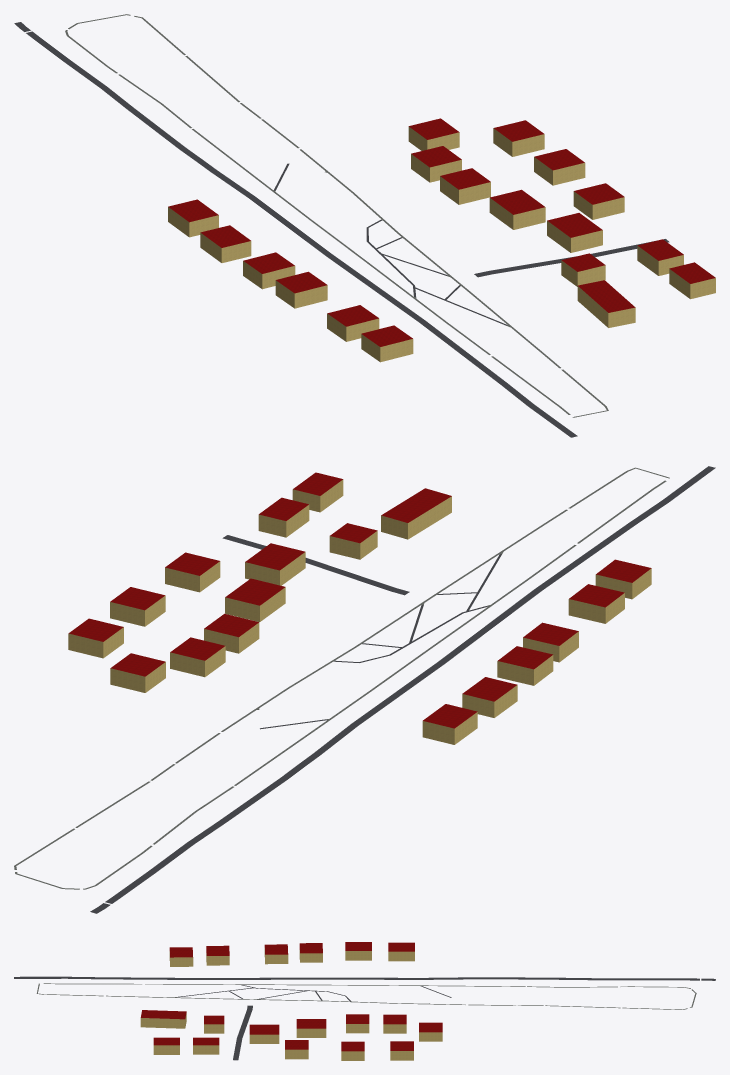
Rendered from district_-1_0.glb.
The picture shows the model from 3 angles, top to bottom: view 1: azimuth 30°, elevation 25°; view 2: azimuth 150°, elevation 25°; view 3: azimuth 270°, elevation 25°; orthographic projection. The views are drawn at different scales.
Visible parts, largest first — view 1: Road w1164488614, Road w1164490930, Building w624466142, Building w44036367, Building w626198196, Building w44036314, Building w44036388, Building w44036355, Building w625229396, Building w625229395, Building w625229394, Building w625229393 (+8 smaller); view 2: Road w1164488614, Road w1164490930, Building w624466142, Building w44036367, Building w626198196, Building w44036332, Building w44036371, Building w44036409, Building w625229394, Building w625229395, Building w44036426, Building w625229396 (+9 smaller); view 3: Road w1164488614, Road w1164490930, Building w624466142, Building w626198196, Building w44036367, Building w44036409, Building w44036388, Building w44036355, Building w626198763, Building w44036332, Building w44036327, Building w44036314 (+9 smaller).
Boxes of the visible parts, left/top/right/bottom form: Road w1164488614: left=14, top=22, right=577, bottom=437; Road w1164490930: left=65, top=14, right=608, bottom=417; Building w624466142: left=577, top=280, right=635, bottom=327; Building w44036367: left=489, top=189, right=545, bottom=229; Building w626198196: left=547, top=213, right=602, bottom=252; Building w44036314: left=361, top=325, right=413, bottom=362; Building w44036388: left=200, top=225, right=251, bottom=262; Building w44036355: left=275, top=271, right=327, bottom=308; Building w625229396: left=573, top=183, right=624, bottom=219; Building w625229395: left=534, top=149, right=585, bottom=185; Building w625229394: left=493, top=120, right=544, bottom=156; Building w625229393: left=440, top=168, right=490, bottom=204; Road w1164488614: left=90, top=466, right=715, bottom=913; Road w1164490930: left=14, top=467, right=669, bottom=889; Building w624466142: left=381, top=488, right=451, bottom=539; Building w44036367: left=225, top=578, right=285, bottom=622; Building w626198196: left=245, top=543, right=305, bottom=585; Building w44036332: left=568, top=584, right=624, bottom=623; Building w44036371: left=497, top=646, right=553, bottom=685; Building w44036409: left=422, top=704, right=477, bottom=744; Building w625229394: left=68, top=618, right=123, bottom=658; Building w625229395: left=110, top=587, right=165, bottom=626; Building w44036426: left=110, top=653, right=165, bottom=692; Building w625229396: left=165, top=552, right=220, bottom=592; Road w1164488614: left=14, top=976, right=715, bottom=980; Road w1164490930: left=36, top=983, right=696, bottom=1009; Building w624466142: left=140, top=1010, right=186, bottom=1028; Building w626198196: left=249, top=1024, right=279, bottom=1043; Building w44036367: left=296, top=1019, right=326, bottom=1037; Building w44036409: left=388, top=942, right=414, bottom=961; Building w44036388: left=345, top=942, right=371, bottom=960; Building w44036355: left=264, top=944, right=288, bottom=964; Building w626198763: left=153, top=1037, right=179, bottom=1054; Building w44036332: left=206, top=945, right=229, bottom=965; Building w44036327: left=193, top=1037, right=219, bottom=1054; Building w44036314: left=169, top=947, right=193, bottom=966.
Bounding box in the file's own units: 186 × 7.5 × 505.
4 materials, 4 textured.
